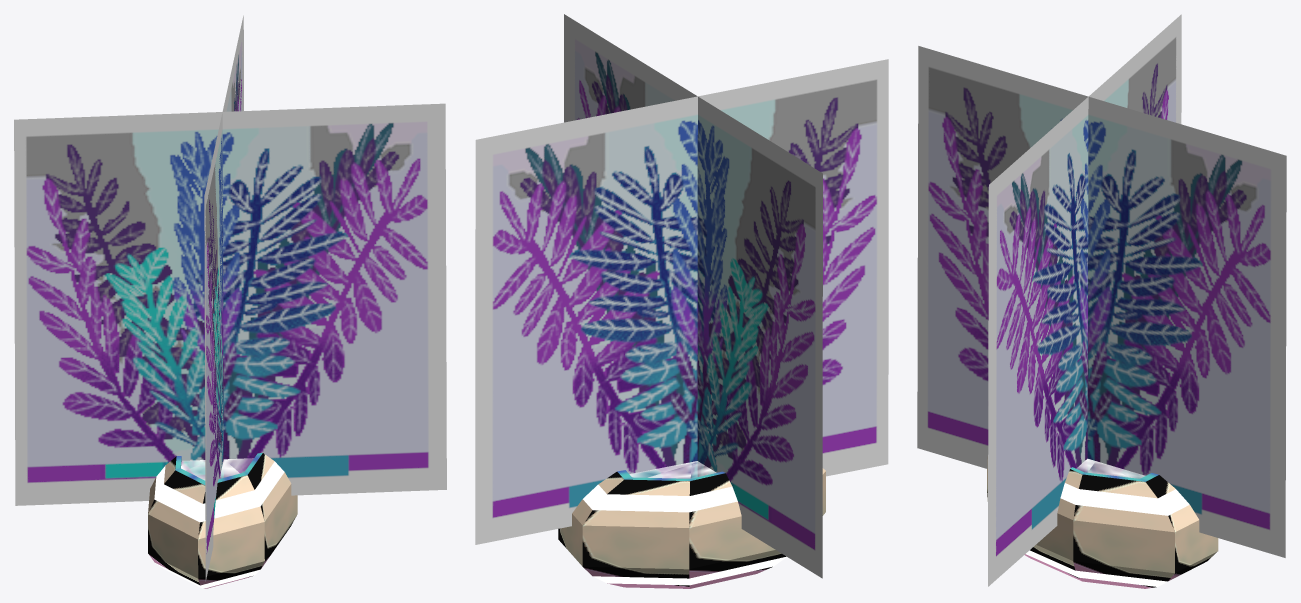
Rendered from Pot_Vapor_04.glb.
3 views of the same model, side by side, from view 1: azimuth 30°, elevation 25°; view 2: azimuth 150°, elevation 25°; view 3: azimuth 270°, elevation 25° (orthographic). The views are drawn at different scales.
Parts seen in each view (by area): view 1: Pot_Vapor_04; view 2: Pot_Vapor_04; view 3: Pot_Vapor_04.
Part boxes in pixels (x1,y1,x2,y2): Pot_Vapor_04: (14,15,446,588); Pot_Vapor_04: (475,14,888,588); Pot_Vapor_04: (917,14,1286,588).
Bounding box in the file's own units: 1.68 × 2.11 × 1.52.
Materials: 4 (4 with a texture image).
